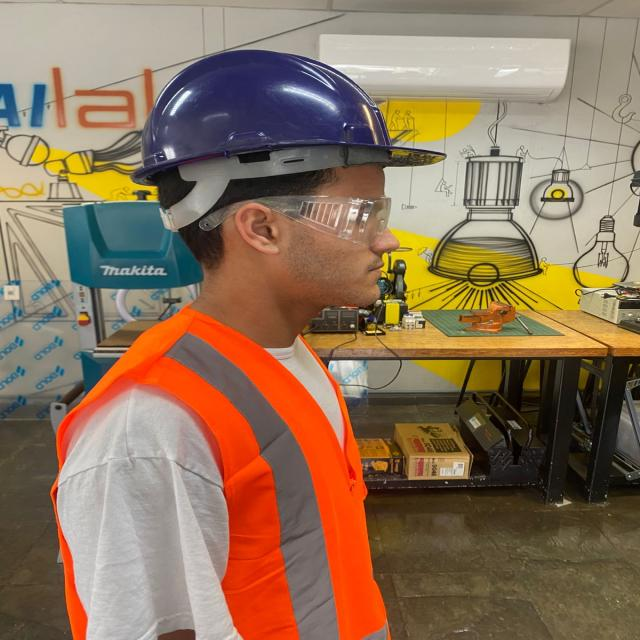CAPACETE: (130, 48, 457, 232)
COLETE: (59, 282, 400, 640)
OCULOS: (191, 194, 401, 250)
